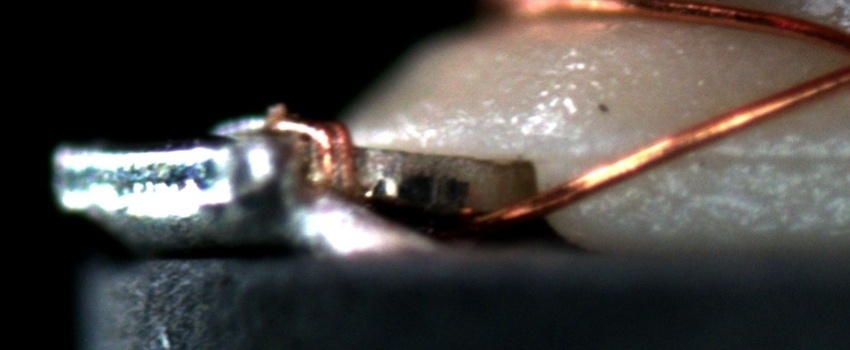CL: (834, 30, 850, 83)
DL: (567, 127, 849, 186)
TE: (217, 106, 357, 195)
